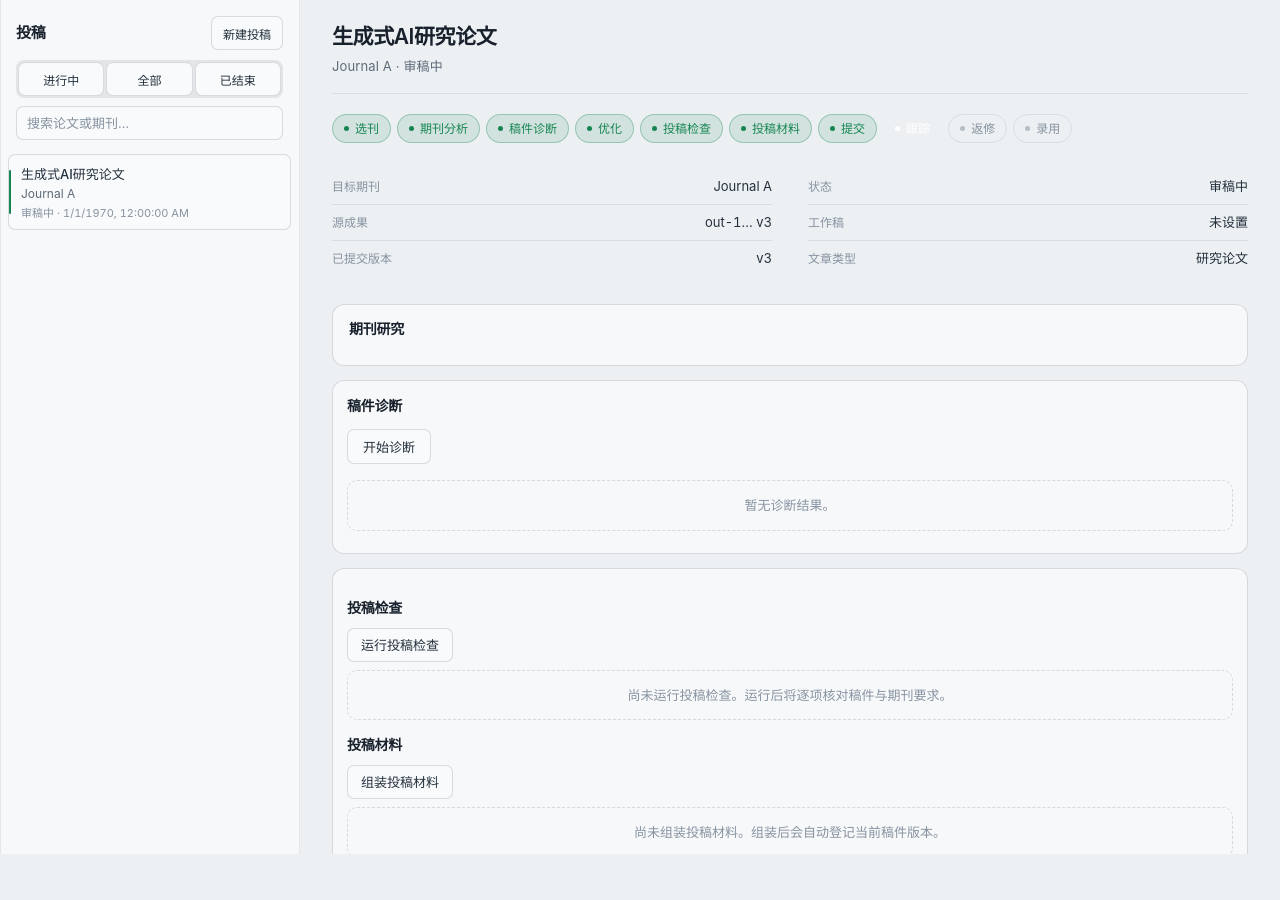
Test: SubmissionsPage（投稿驾驶舱 P0） › surfaces the dual-submission risk when the outcome already has an active case
The image size is (1280, 900).
Click the button "新建投稿" at (247, 33), box x1=211 y1=16 x2=283 y2=50
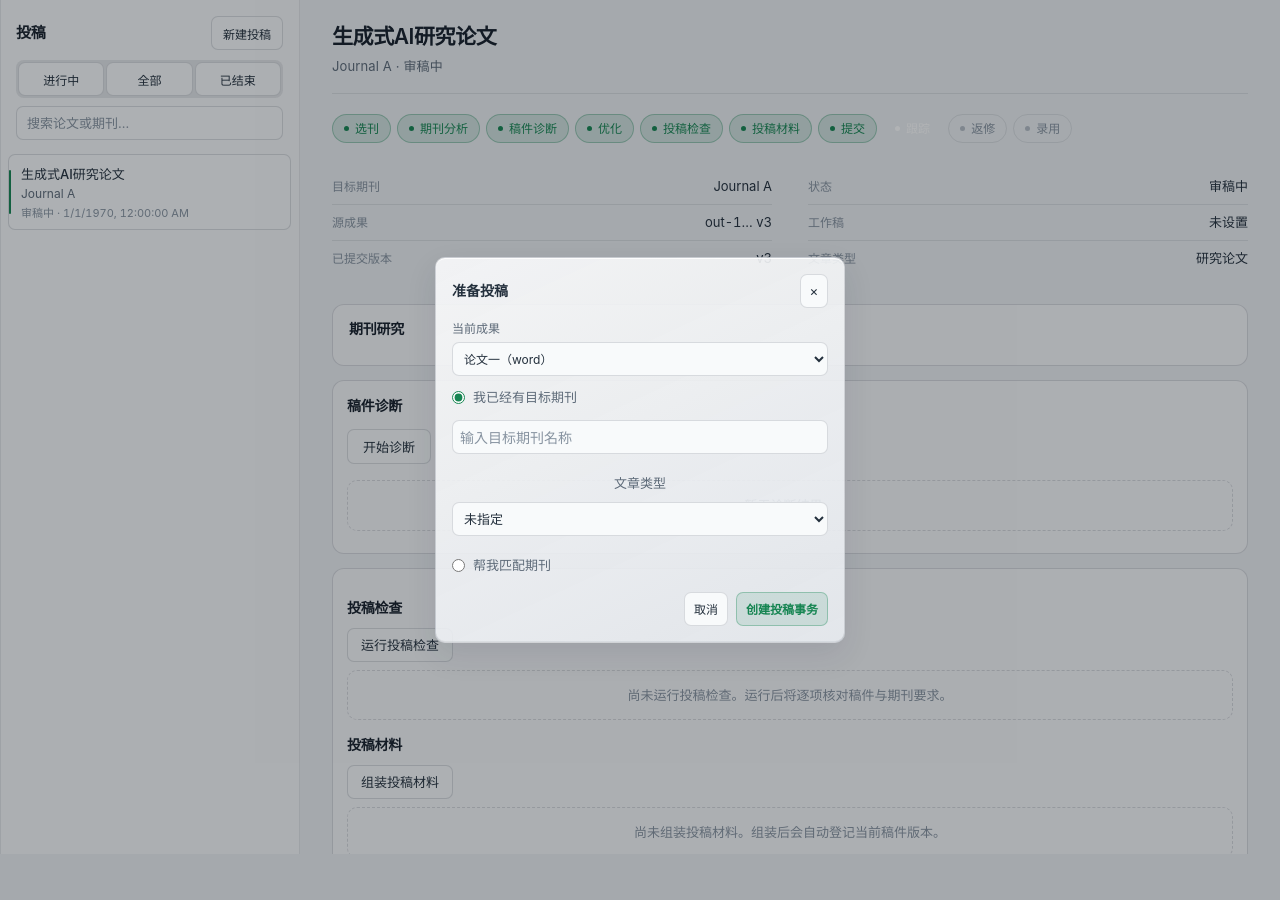
// 弹窗默认选中第一个成果；指定期刊并提交。
Type "Journal B" into the field labelled "输入目标期刊名称" at (640, 437), box x1=452 y1=420 x2=828 y2=454
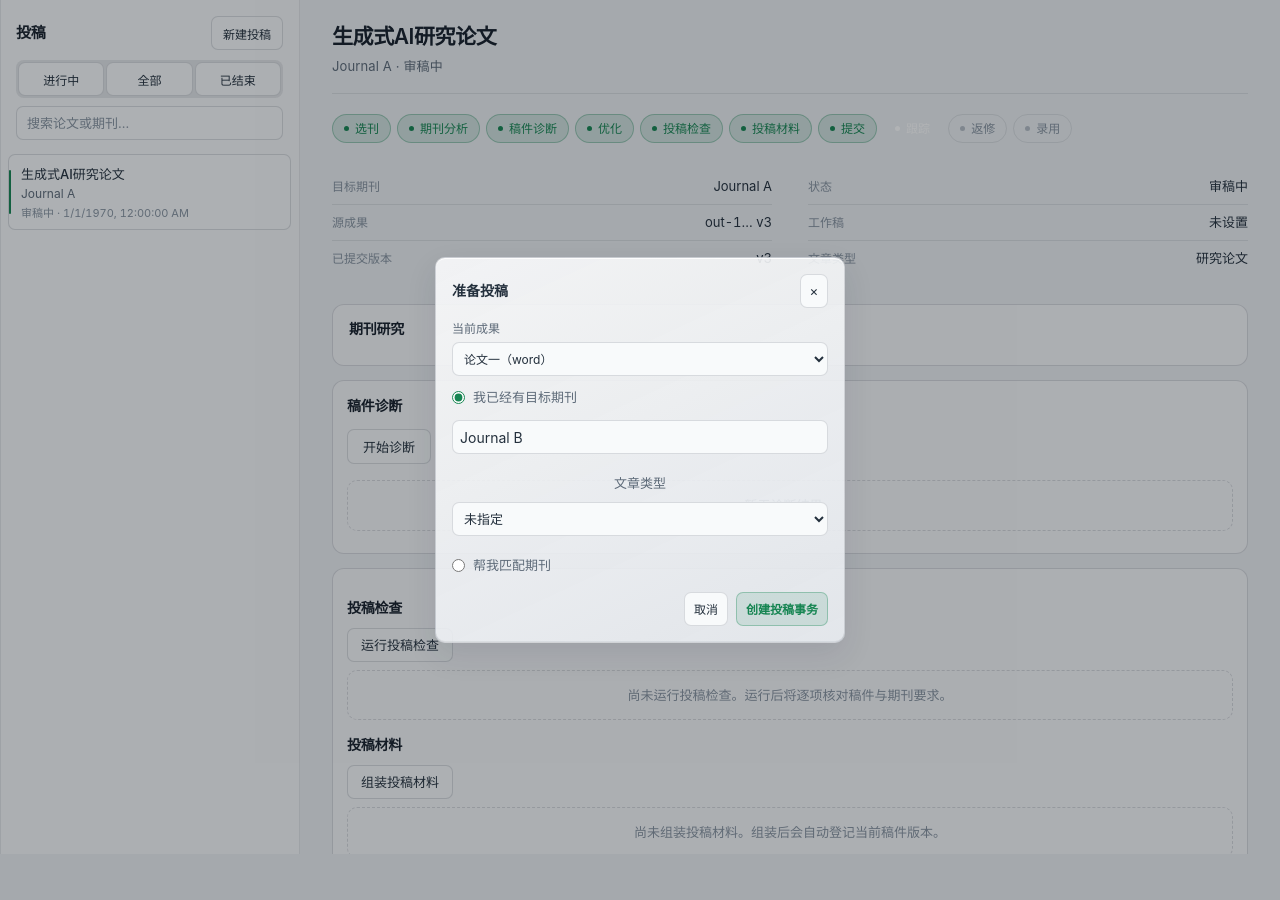
Click the button "创建投稿事务" at (782, 609), box x1=736 y1=592 x2=828 y2=626
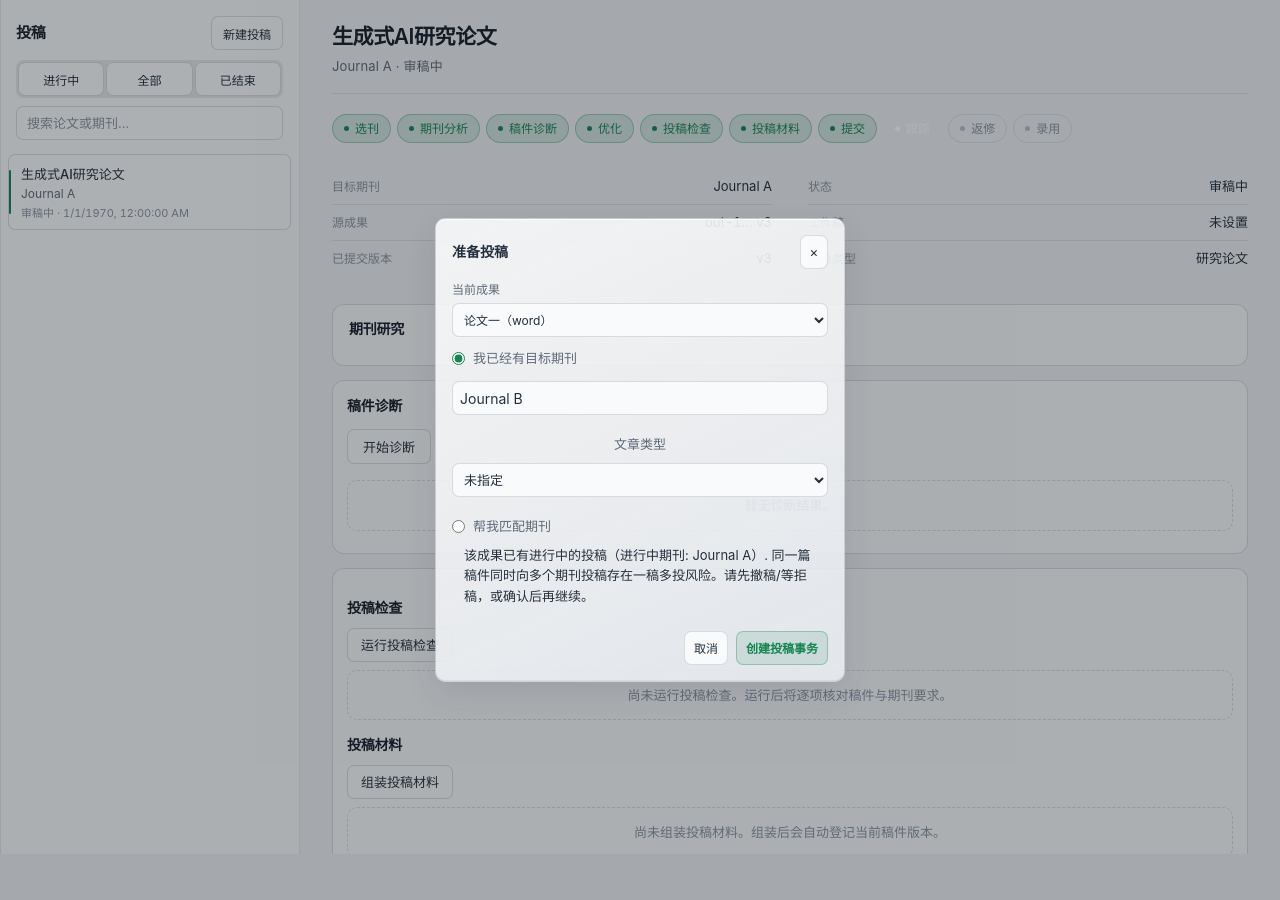
Check: the text "该成果已有进行中的投稿（进行中期刊: Journal A）. 同一篇稿件同时向多个期刊投稿存在一稿多投风险。请先撤稿/等拒稿，或确认后再继续。" is shown, box x1=452 y1=537 x2=828 y2=615
